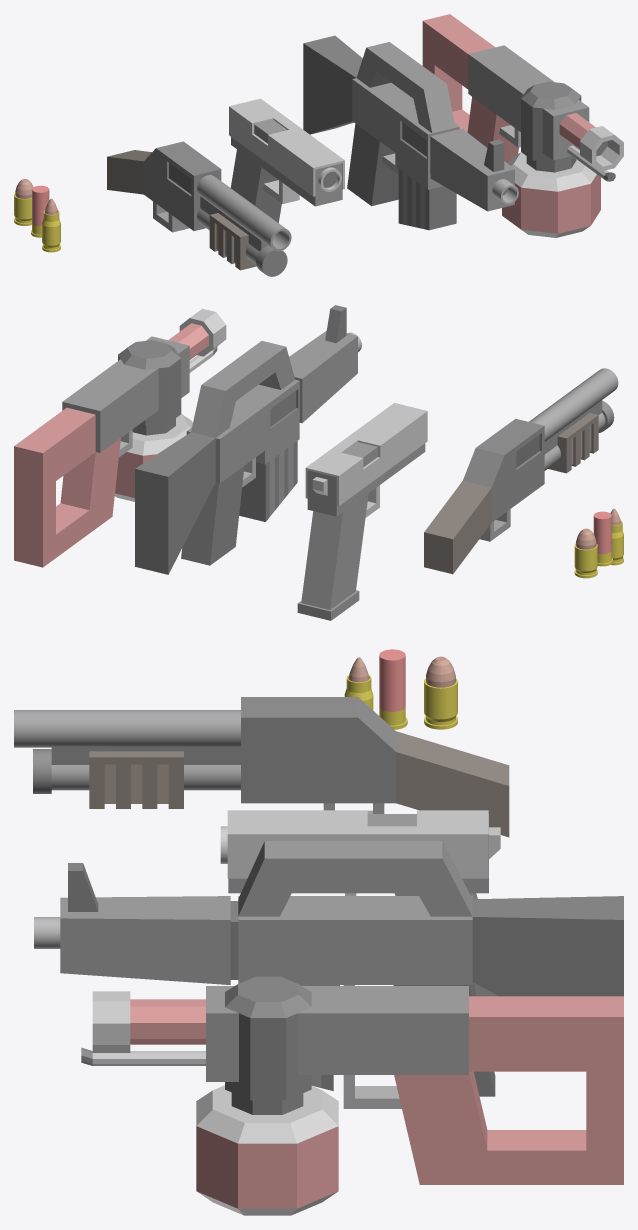
The model's file is guns.fbx.
The picture shows the model from 3 angles, top to bottom: view 1: azimuth 30°, elevation 25°; view 2: azimuth 150°, elevation 25°; view 3: azimuth 270°, elevation 25°; orthographic projection. The views are drawn at different scales.
Visible parts, largest first — view 1: machinegun, flamethrower, shotgun, flamethrower magazine, pistol bar, pistol, maginegun magazine, shotgun handle, machinegun bullet shell, shotgun bullet, pistol bullet shell; view 2: machinegun, flamethrower, shotgun, pistol, pistol bar, maginegun magazine, flamethrower magazine, shotgun handle, shotgun bullet, pistol bullet shell, machinegun bullet shell; view 3: flamethrower, machinegun, shotgun, flamethrower magazine, pistol bar, shotgun handle, pistol, shotgun bullet, pistol bullet shell, pistol bullet.
Boxes of the visible parts, x1=… form: machinegun: x1=303, y1=35, x2=518, y2=211; flamethrower: x1=422, y1=14, x2=623, y2=181; shotgun: x1=107, y1=141, x2=291, y2=276; flamethrower magazine: x1=502, y1=152, x2=600, y2=237; pistol bar: x1=229, y1=98, x2=344, y2=196; pistol: x1=230, y1=119, x2=342, y2=222; maginegun magazine: x1=398, y1=169, x2=456, y2=230; shotgun handle: x1=209, y1=213, x2=256, y2=270; machinegun bullet shell: x1=42, y1=210, x2=60, y2=252; shotgun bullet: x1=31, y1=185, x2=49, y2=237; pistol bullet shell: x1=14, y1=193, x2=31, y2=225; machinegun: x1=135, y1=305, x2=361, y2=574; flamethrower: x1=14, y1=308, x2=226, y2=567; shotgun: x1=424, y1=368, x2=618, y2=574; pistol: x1=297, y1=442, x2=425, y2=620; pistol bar: x1=305, y1=403, x2=427, y2=506; maginegun magazine: x1=239, y1=441, x2=297, y2=521; flamethrower magazine: x1=114, y1=414, x2=192, y2=501; shotgun handle: x1=548, y1=413, x2=598, y2=473; shotgun bullet: x1=593, y1=511, x2=612, y2=566; pistol bullet shell: x1=574, y1=543, x2=597, y2=578; machinegun bullet shell: x1=611, y1=521, x2=623, y2=565; flamethrower: x1=81, y1=976, x2=623, y2=1184; machinegun: x1=34, y1=841, x2=623, y2=1096; shotgun: x1=14, y1=697, x2=509, y2=837; flamethrower magazine: x1=196, y1=1085, x2=338, y2=1215; pistol bar: x1=227, y1=810, x2=488, y2=878; shotgun handle: x1=89, y1=751, x2=183, y2=808; pistol: x1=220, y1=814, x2=500, y2=996; shotgun bullet: x1=379, y1=649, x2=407, y2=729; pistol bullet shell: x1=424, y1=678, x2=457, y2=729; pistol bullet: x1=426, y1=656, x2=455, y2=687.
Size of the model in its own units: 22099 by 6990 by 14517.
